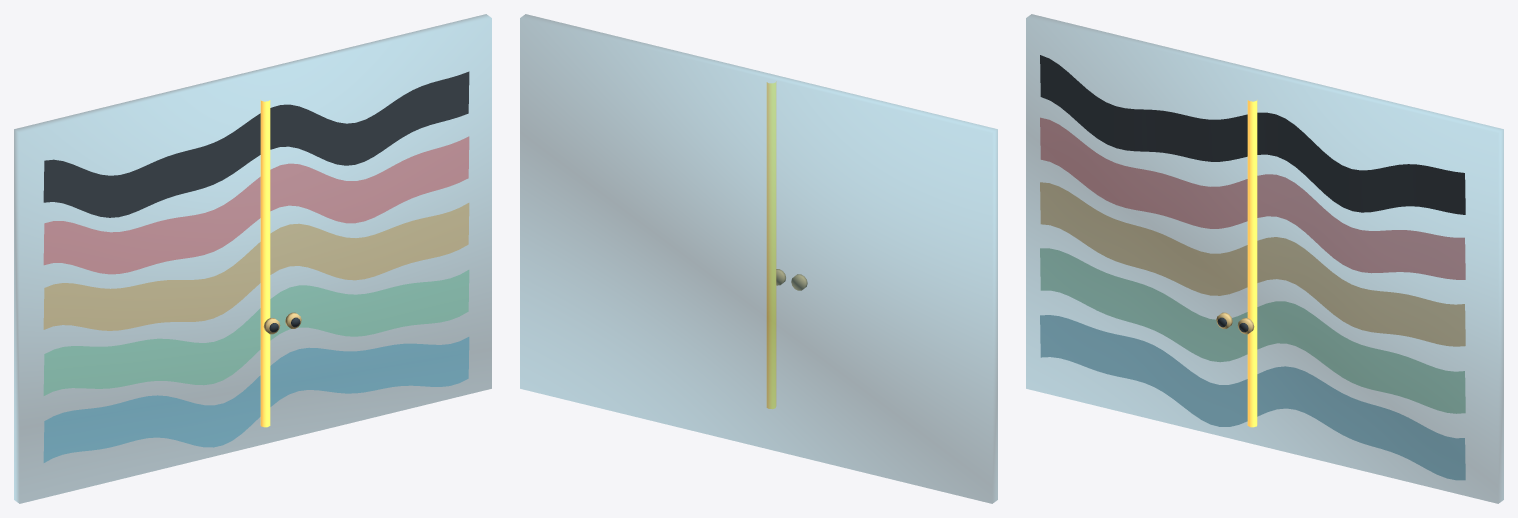
The model's file is 67_L92_LayeredMaterialCrossSectionHologram.glb.
3 renders of one model, left to right at view 1: azimuth 30°, elevation 25°; view 2: azimuth 150°, elevation 25°; view 3: azimuth 330°, elevation 25°, orthographic.
Parts seen in each view (by area): view 1: L92_LayeredMaterialCrossSecti_Part_0000, L92_LayeredMaterialCrossSecti_Part_0005, L92_LayeredMaterialCrossSecti_Part_0001, L92_LayeredMaterialCrossSecti_Part_0003, L92_LayeredMaterialCrossSecti_Part_0004, L92_LayeredMaterialCrossSecti_Part_0002, L92_LayeredMaterialCrossSecti_Part_0006; view 2: L92_LayeredMaterialCrossSecti_Part_0000, L92_LayeredMaterialCrossSecti_Part_0006; view 3: L92_LayeredMaterialCrossSecti_Part_0000, L92_LayeredMaterialCrossSecti_Part_0005, L92_LayeredMaterialCrossSecti_Part_0004, L92_LayeredMaterialCrossSecti_Part_0003, L92_LayeredMaterialCrossSecti_Part_0001, L92_LayeredMaterialCrossSecti_Part_0002, L92_LayeredMaterialCrossSecti_Part_0006.
Part boxes in pixels (<box>): L92_LayeredMaterialCrossSecti_Part_0000: <box>14,14,491,503</box>; L92_LayeredMaterialCrossSecti_Part_0005: <box>43,71,469,217</box>; L92_LayeredMaterialCrossSecti_Part_0001: <box>43,337,469,462</box>; L92_LayeredMaterialCrossSecti_Part_0003: <box>43,203,469,330</box>; L92_LayeredMaterialCrossSecti_Part_0004: <box>43,136,469,274</box>; L92_LayeredMaterialCrossSecti_Part_0002: <box>43,270,469,395</box>; L92_LayeredMaterialCrossSecti_Part_0006: <box>260,100,270,427</box>; L92_LayeredMaterialCrossSecti_Part_0000: <box>520,14,997,503</box>; L92_LayeredMaterialCrossSecti_Part_0006: <box>766,81,776,408</box>; L92_LayeredMaterialCrossSecti_Part_0000: <box>1026,14,1503,503</box>; L92_LayeredMaterialCrossSecti_Part_0005: <box>1040,55,1465,214</box>; L92_LayeredMaterialCrossSecti_Part_0004: <box>1040,117,1465,279</box>; L92_LayeredMaterialCrossSecti_Part_0003: <box>1040,182,1465,346</box>; L92_LayeredMaterialCrossSecti_Part_0001: <box>1040,315,1465,480</box>; L92_LayeredMaterialCrossSecti_Part_0002: <box>1040,248,1465,413</box>; L92_LayeredMaterialCrossSecti_Part_0006: <box>1247,100,1257,427</box>.
Size of the model in its own units: 4.4 by 3.3 by 0.567.
